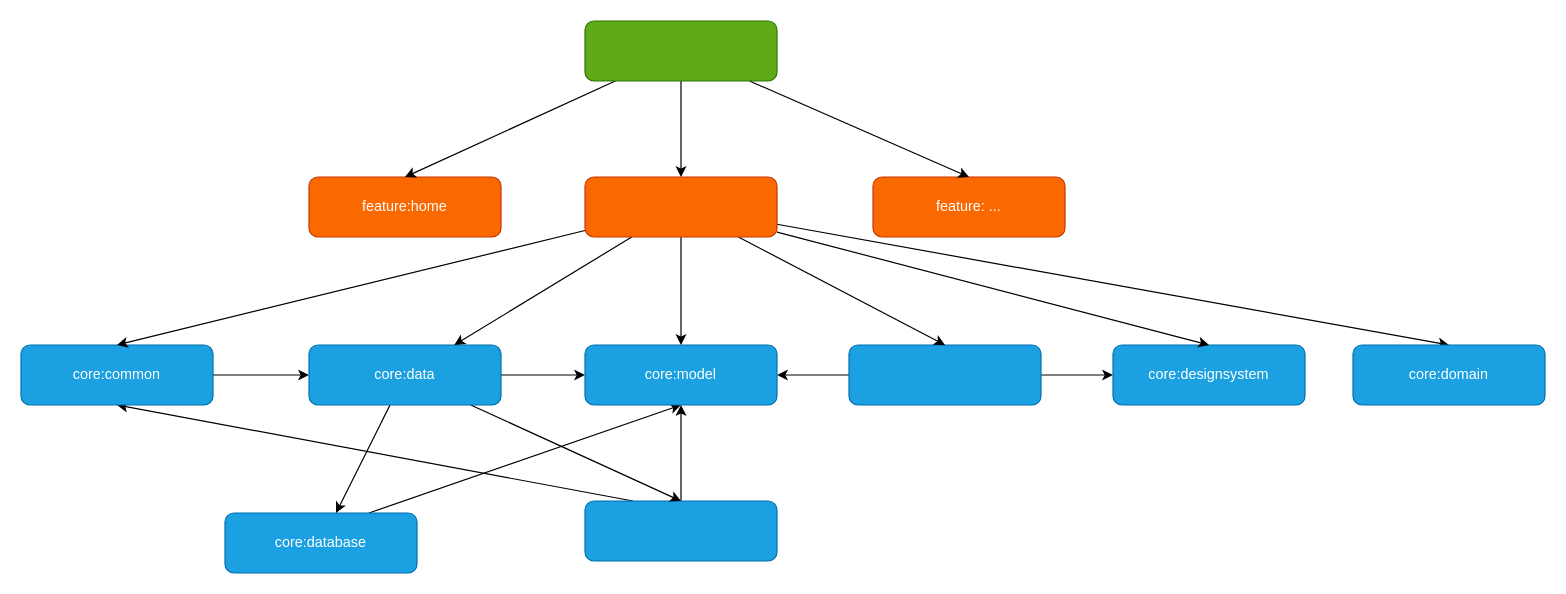
This 1566x594 diagram has some shape labels left out. The centre of each missing label's shape, as x and y in pixels:
app: (680,50)
core:network: (680,530)
core:ui: (944,374)
feature:detail: (680,206)
